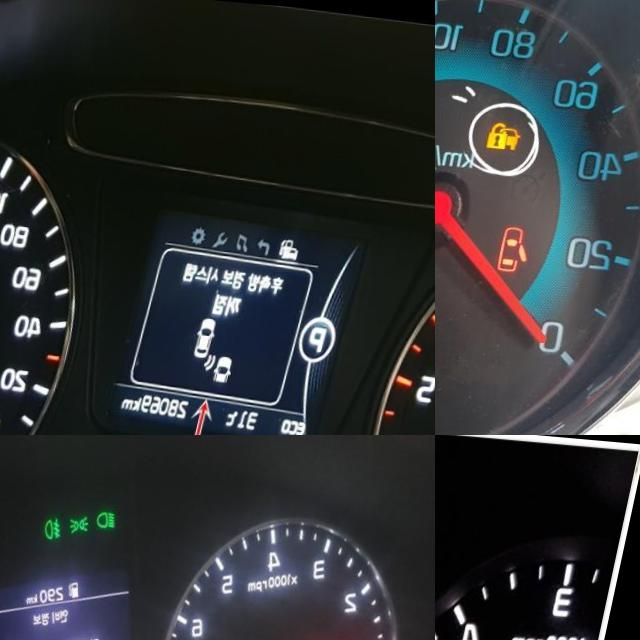Doors: (514, 216, 552, 264)
FrontFogLight: (50, 510, 75, 536)
Low beam: (102, 503, 128, 526)
SideLamp: (76, 509, 101, 530)
